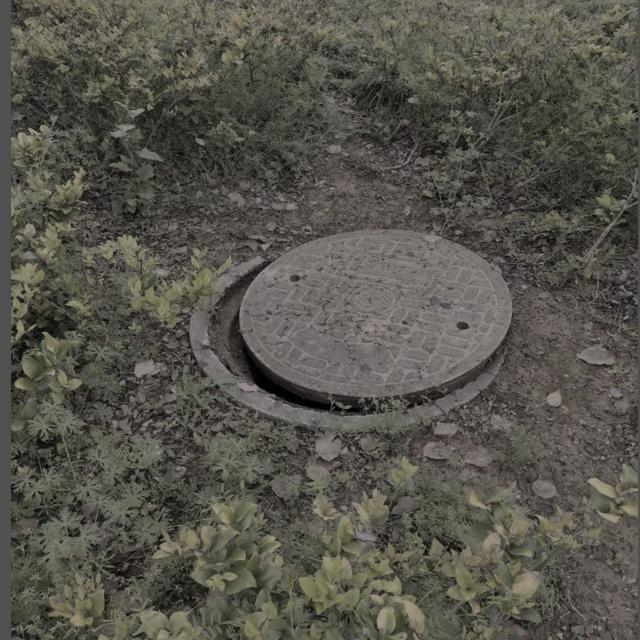uncovered: (188, 229, 512, 429)
